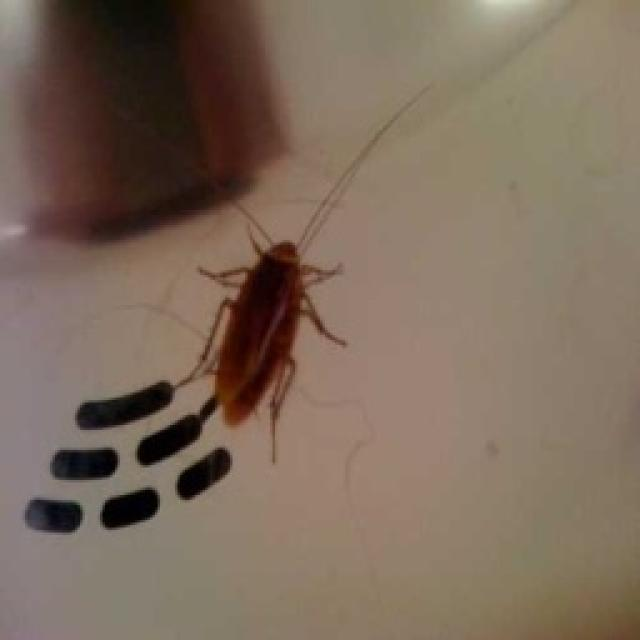cockroach: (172, 193, 358, 472)
